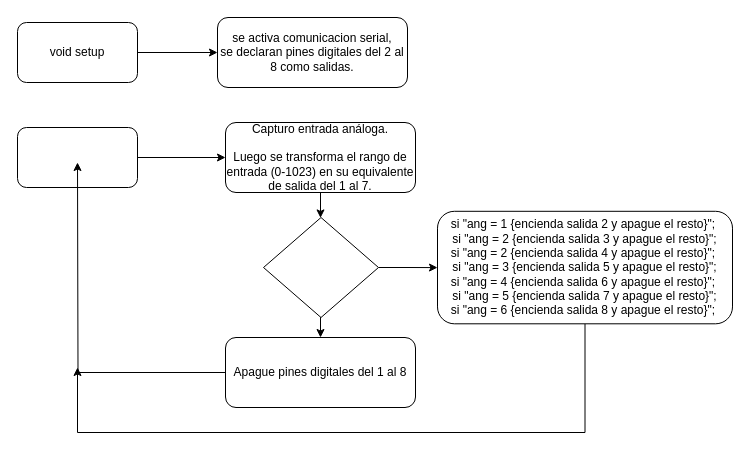
Image size: 750x458. Some labels were removed from this diagram. The shapes that lost their labels are listed below. From the top down, each one's box as (x1, y1, x2, y2) in pixels, then its label:
(16, 126, 138, 188): loop
(262, 216, 378, 318): si "ang = re 1 al 7" - >> no
